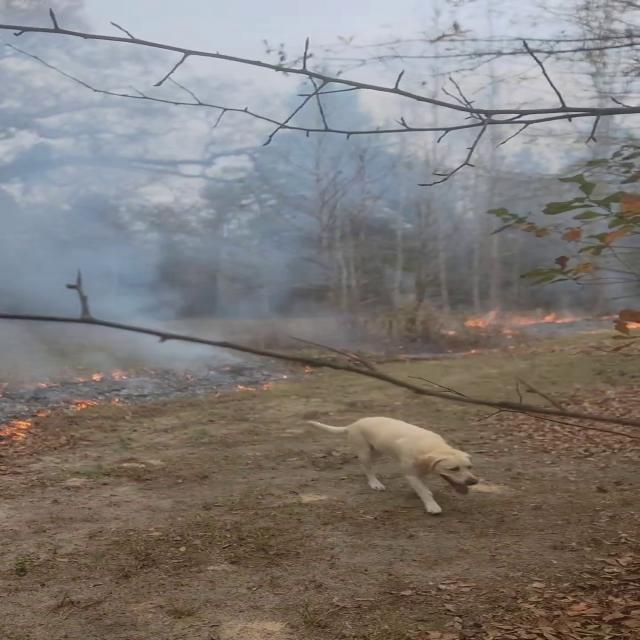Fire: (456, 303, 587, 335)
Smoke: (3, 1, 627, 391)
